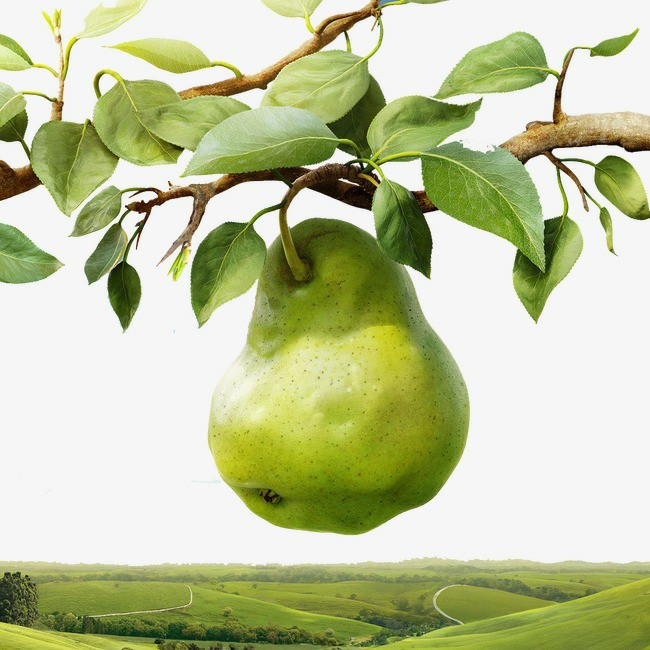pear: (205, 215, 472, 537)
